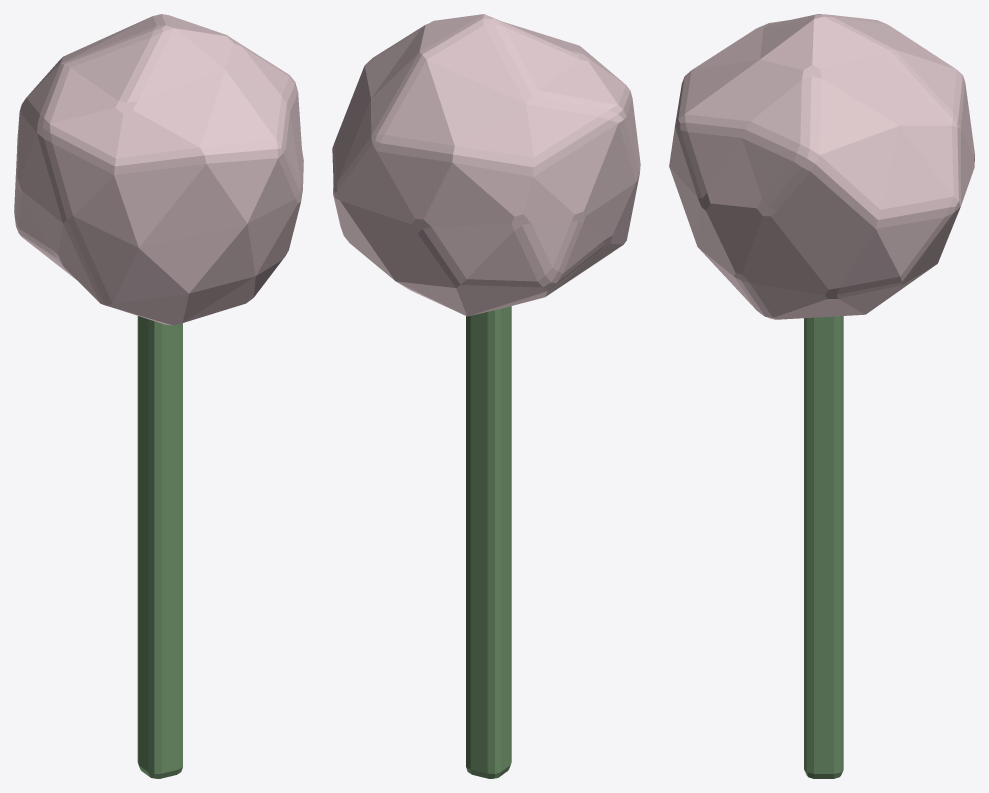
File: wildflower_pink.glb
The picture shows the model from 3 angles, left to right: view 1: azimuth 30°, elevation 25°; view 2: azimuth 150°, elevation 25°; view 3: azimuth 270°, elevation 25°; orthographic projection.
Visible parts, largest first — view 1: Wildflower_pink; view 2: Wildflower_pink; view 3: Wildflower_pink.
Boxes of the visible parts, <box> form: Wildflower_pink: <box>14,14,303,778</box>; Wildflower_pink: <box>332,14,640,778</box>; Wildflower_pink: <box>669,14,974,778</box>.
Bounding box in the file's own units: 0.1515 × 0.4237 × 0.1545.
